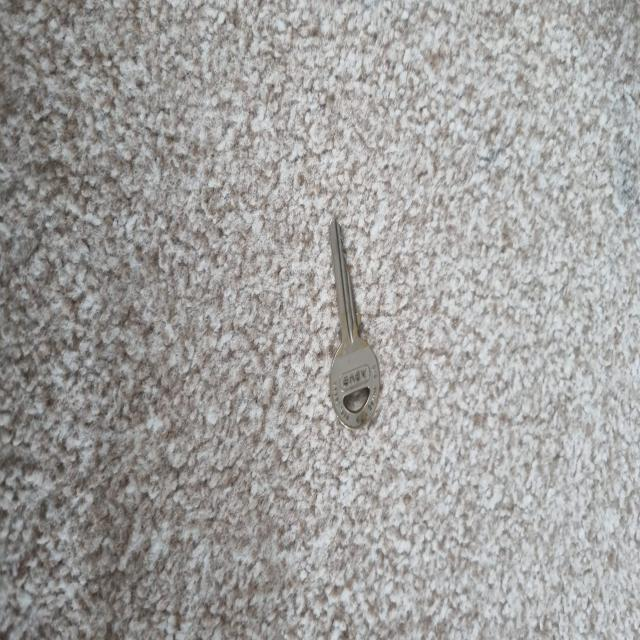Key: (330, 220, 379, 429)
